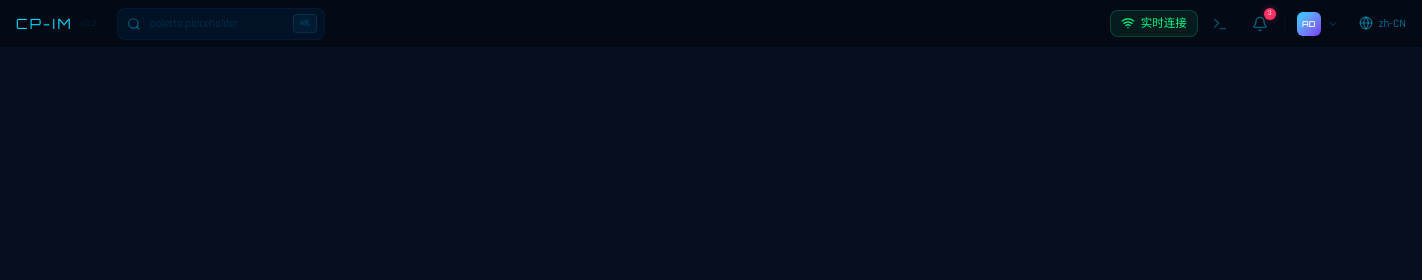
Test: TopBar › 通知面板 › 点击通知按钮应显示通知面板
Click the button "3". click: (1260, 24)
box: top-left (1242, 6), bottom-right (1278, 42)
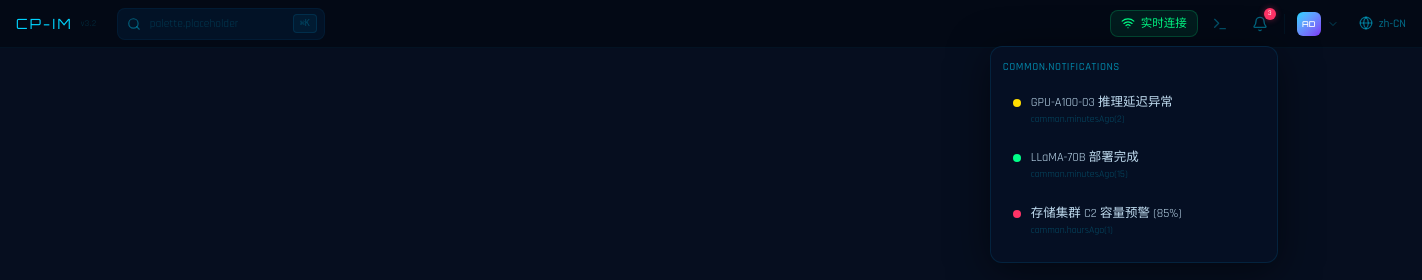
Check: the heading "common.notifications" is shown, box top-left (1003, 60), bottom-right (1120, 74)
